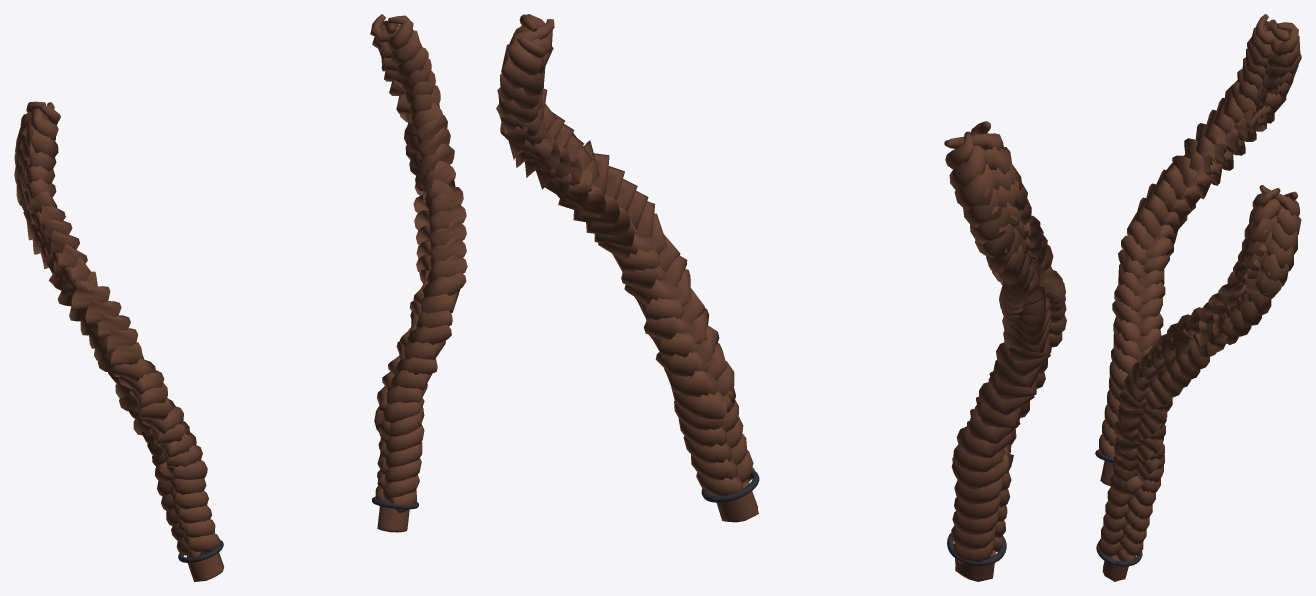
Rendered from Feminine-twin-braids-triangle-pashmina-lengths251.glb.
3 views of the same model, side by side, from view 1: azimuth 30°, elevation 25°; view 2: azimuth 150°, elevation 25°; view 3: azimuth 270°, elevation 25° (orthographic). The views are drawn at different scales.
Visible parts, largest first — view 1: 226 hairLengths / Hair / chestnut226, 226 hairLengths / Hair / ties226; view 2: 226 hairLengths / Hair / chestnut226, 226 hairLengths / Hair / ties226; view 3: 226 hairLengths / Hair / chestnut226, 226 hairLengths / Hair / ties226.
Boxes of the visible parts, box(x1,y1,x2,y2) form: 226 hairLengths / Hair / chestnut226: box(14, 14, 467, 581); 226 hairLengths / Hair / ties226: box(178, 496, 418, 562); 226 hairLengths / Hair / chestnut226: box(496, 14, 1066, 581); 226 hairLengths / Hair / ties226: box(701, 471, 1006, 566); 226 hairLengths / Hair / chestnut226: box(1098, 14, 1301, 581); 226 hairLengths / Hair / ties226: box(1095, 449, 1142, 566).
Bounding box in the file's own units: 1.03 × 1.05 × 0.4585.
